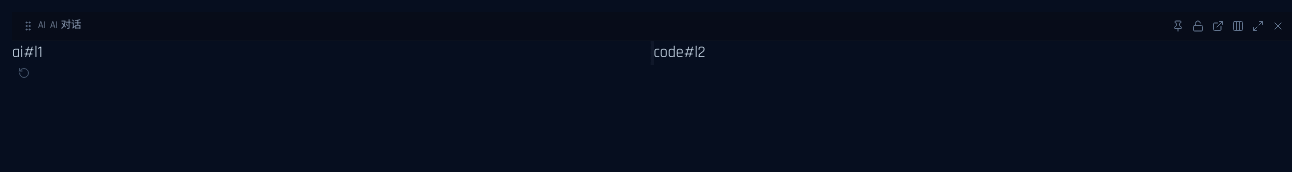
PanelManager 布局操作 › pinned 面板: 拖拽把手提示固定 + 无浮动按钮
Click the button titled "固定面板".
click(1178, 26)  # box [1168,16,1188,36]
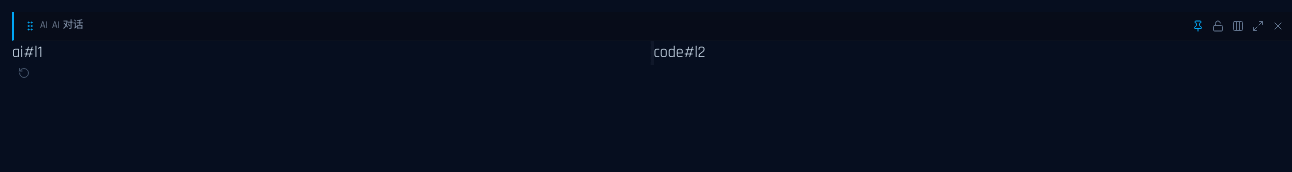
Expected: the element titled "面板已固定" is shown, [24,18,83,32]
Expected: the button titled "浮动窗口" is gone
